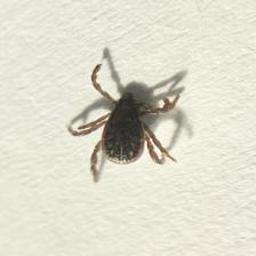Rhipicephalus sanguineus: (66, 65, 181, 183)
